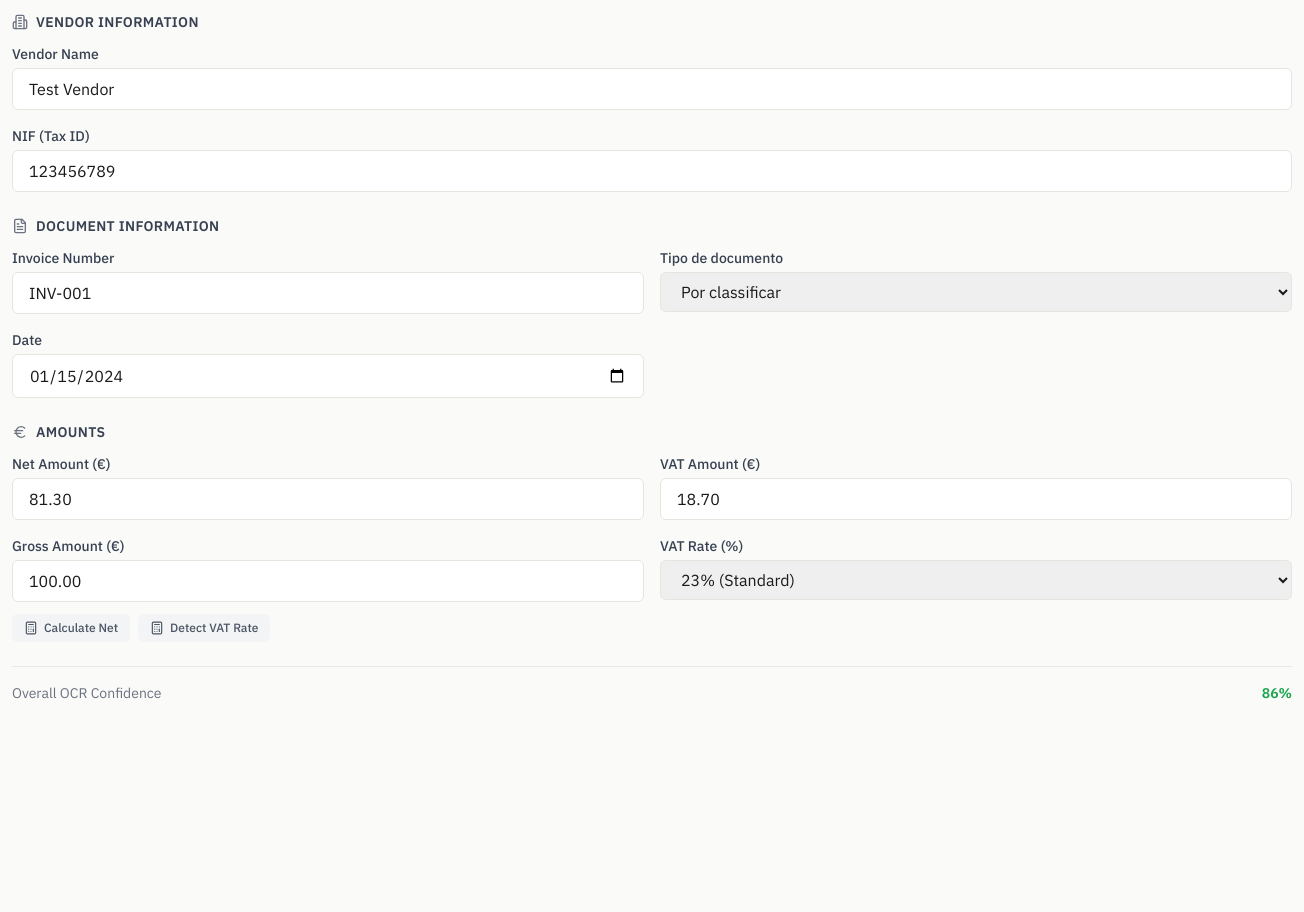
Test: ReviewForm › shows edited indicator when field is modified
Replace the text in the field showing "Test Vendor" below "Vendor Name" with "Modified Vendor": [652, 89] box [12,68,1292,110]
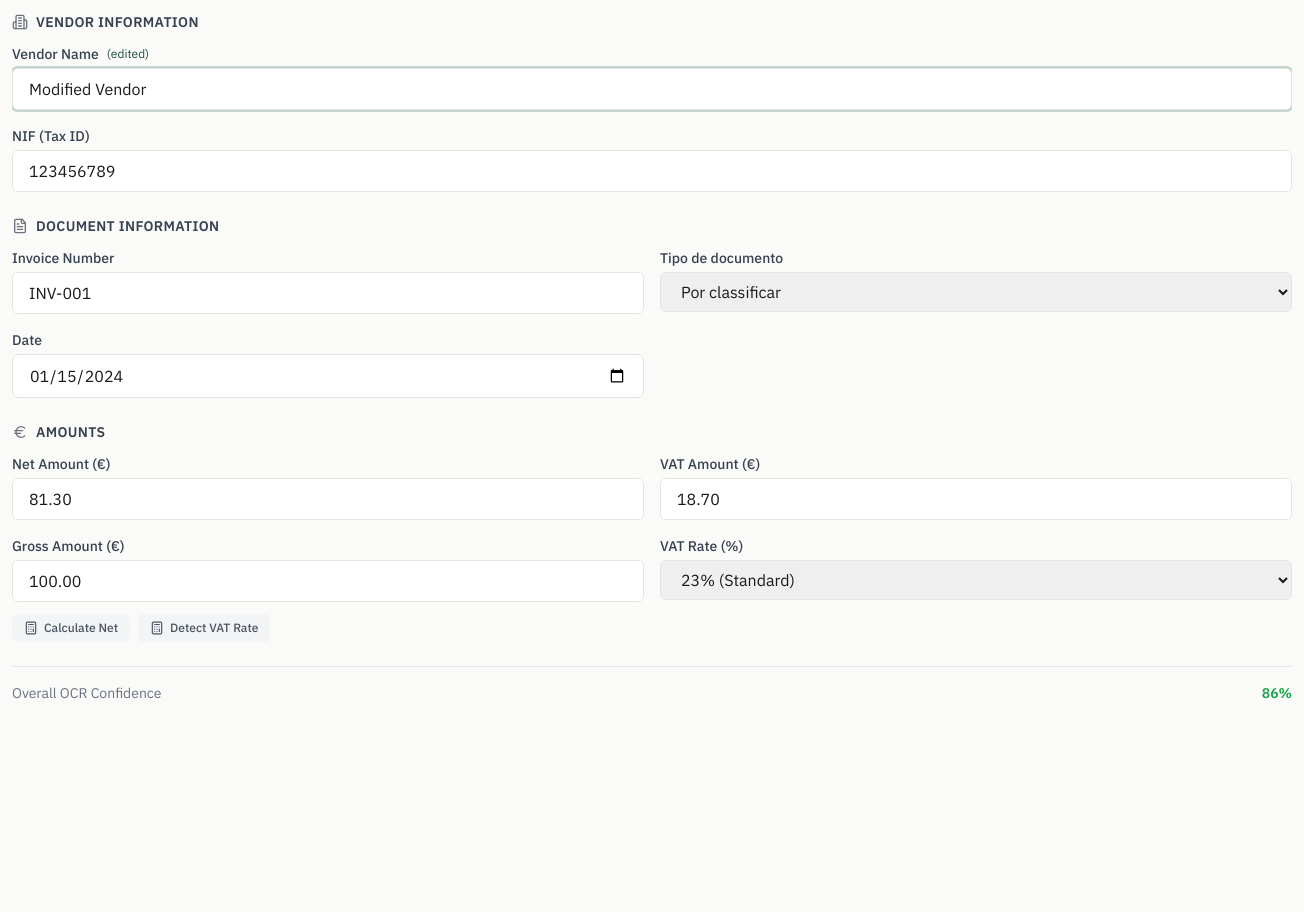
Result: the text "(edited)" is shown at [107,46,149,62]
